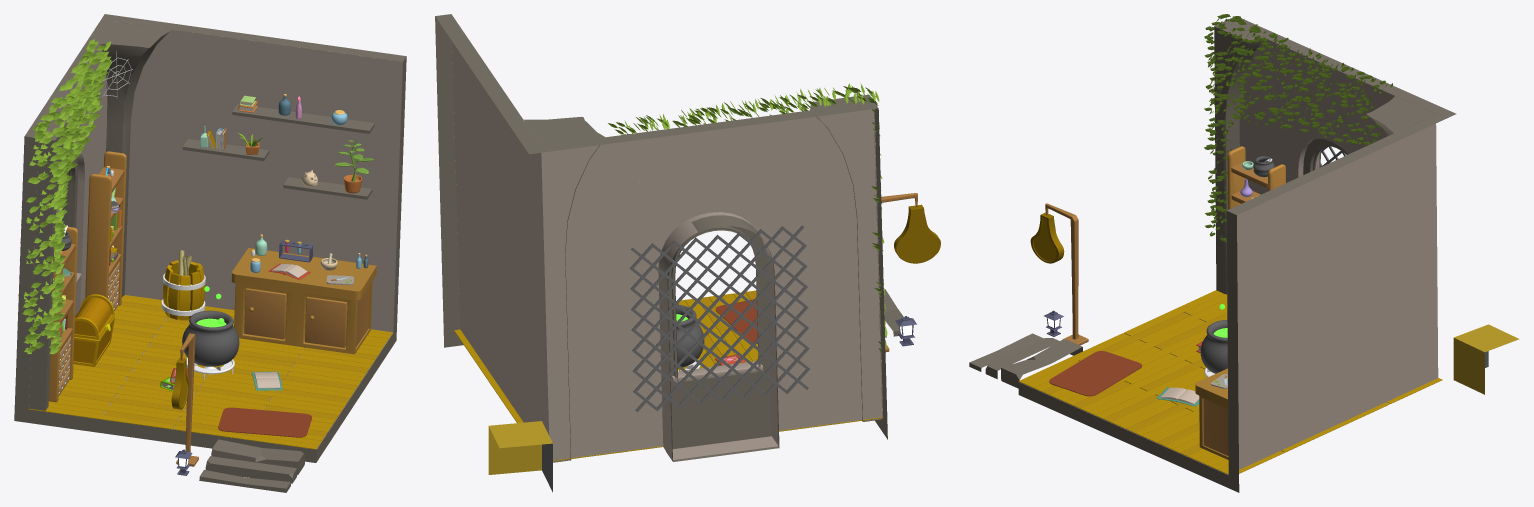
File: potion-shop-final-4.glb
3 views of the same model, side by side, from view 1: azimuth 30°, elevation 25°; view 2: azimuth 150°, elevation 25°; view 3: azimuth 270°, elevation 25° (orthographic). The views are drawn at different scales.
Visible parts, largest first — view 1: room, table, lvy, library.001, library, cauldron, carpet, barril, sign, step-1, step-2, shelves (+8 smaller); view 2: room, Cube, lvy, sign, cauldron, carpet; view 3: room, lvy, carpet, Cube, sign, table, library, step-1, cauldron, step-2, step-3.
Boxes of the visible parts, <box> form: room: <box>14,14,406,462</box>; table: <box>231,248,376,354</box>; lvy: <box>22,39,111,354</box>; library.001: <box>85,151,126,311</box>; library: <box>48,226,78,402</box>; cauldron: <box>182,310,239,379</box>; carpet: <box>218,407,311,437</box>; barril: <box>161,260,205,320</box>; sign: <box>171,333,198,466</box>; step-1: <box>211,439,304,475</box>; step-2: <box>205,456,296,483</box>; shelves: <box>232,104,374,133</box>; room: <box>435,14,887,462</box>; Cube: <box>488,421,552,492</box>; lvy: <box>608,83,887,351</box>; sign: <box>881,193,940,351</box>; cauldron: <box>676,305,704,371</box>; carpet: <box>715,299,757,343</box>; room: <box>1018,17,1456,492</box>; lvy: <box>1204,14,1392,242</box>; carpet: <box>1049,351,1142,396</box>; Cube: <box>1453,324,1519,394</box>; sign: <box>1030,203,1088,345</box>; table: <box>1195,368,1228,459</box>; library: <box>1227,146,1285,209</box>; step-1: <box>1001,339,1082,388</box>; cauldron: <box>1200,320,1227,377</box>; step-2: <box>985,338,1059,379</box>; step-3: <box>969,333,1043,371</box>.
Size of the model in its own units: 19.22 by 14.25 by 23.49.
